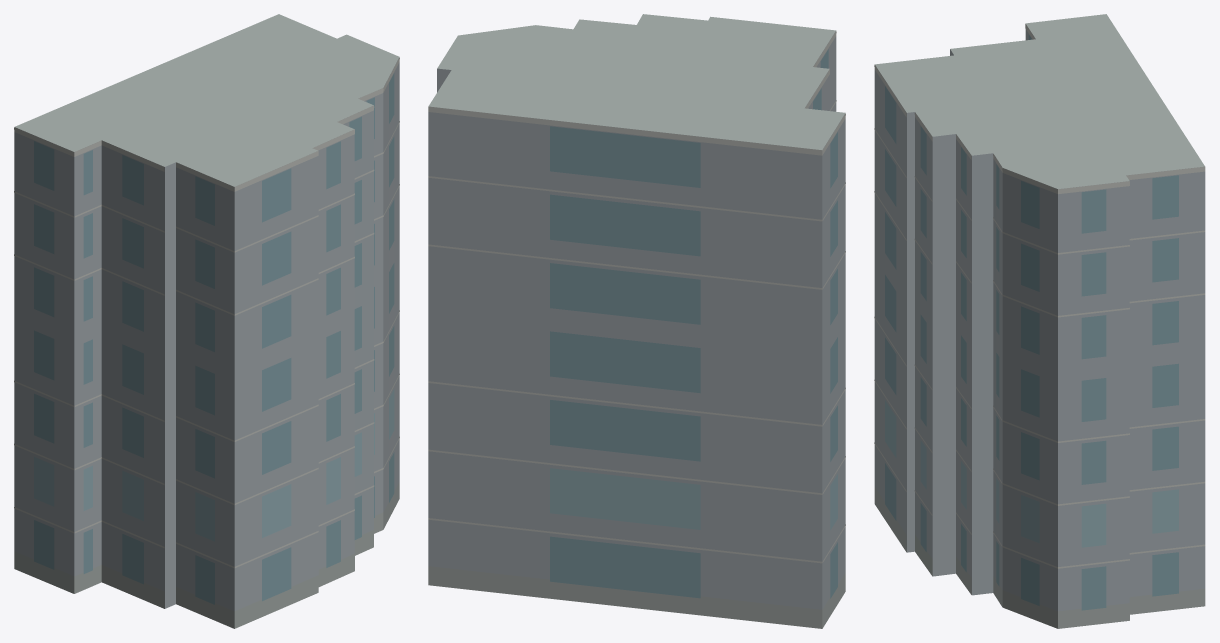
The model's file is survey-upis-32529396.glb.
3 renders of one model, left to right at view 1: azimuth 30°, elevation 25°; view 2: azimuth 150°, elevation 25°; view 3: azimuth 270°, elevation 25°, orthographic. The views are drawn at different scales.
Parts seen in each view (by area): view 1: survey-upis-32529396.tmp; view 2: survey-upis-32529396.tmp; view 3: survey-upis-32529396.tmp.
Boxes of the visible parts, x1,y1,x2,y2 form: survey-upis-32529396.tmp: [14, 14, 399, 628]; survey-upis-32529396.tmp: [428, 14, 845, 628]; survey-upis-32529396.tmp: [874, 14, 1205, 628].
Bounding box in the file's own units: 18.22 × 21.3 × 14.53.
